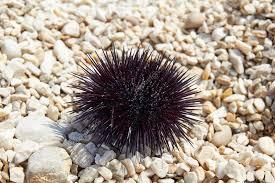urchin: (67, 42, 204, 157)
